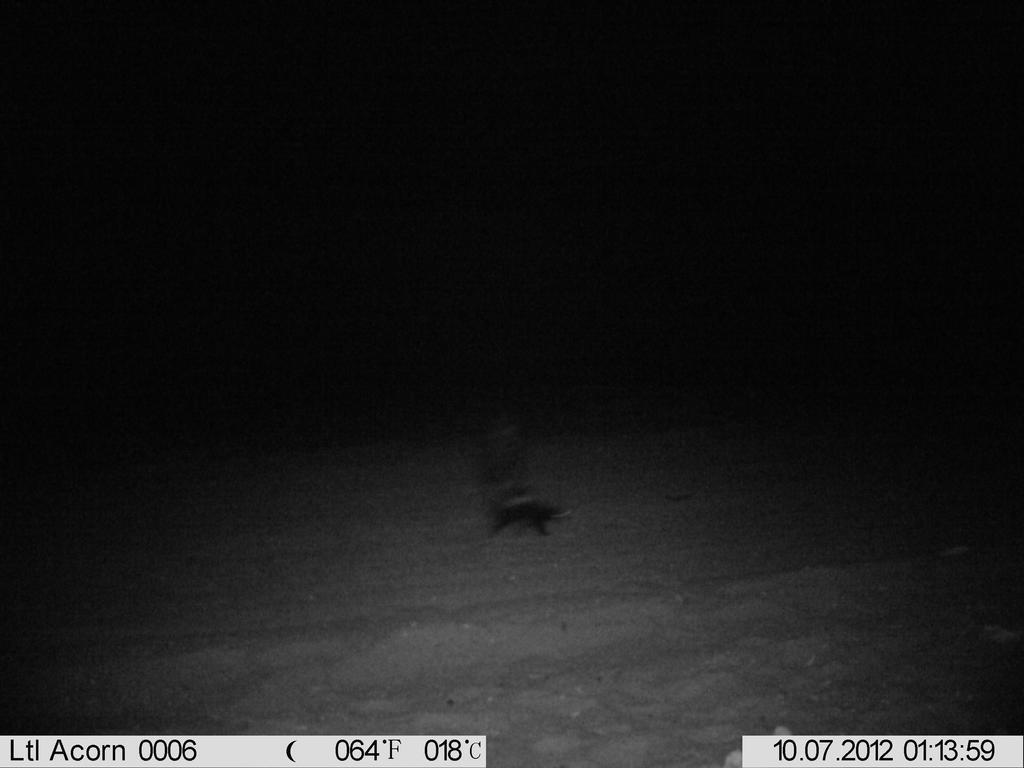skunk: (482, 421, 578, 552)
